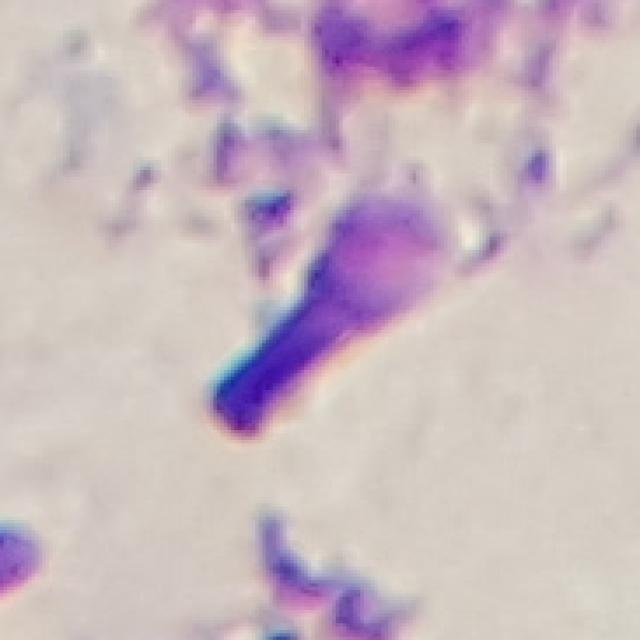non-sperm: (204, 192, 447, 440)
